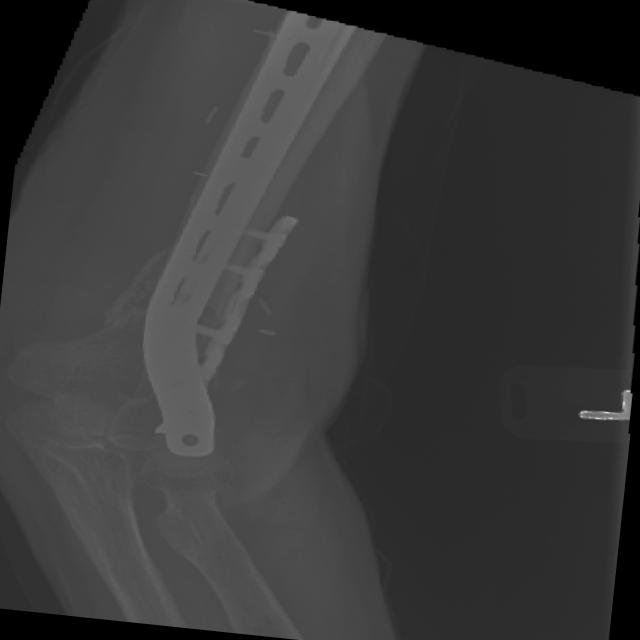elbow positive: (53, 235, 181, 364), (0, 336, 93, 427)
